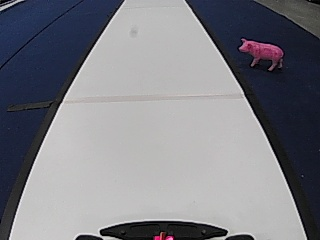pig: (236, 36, 287, 70)
